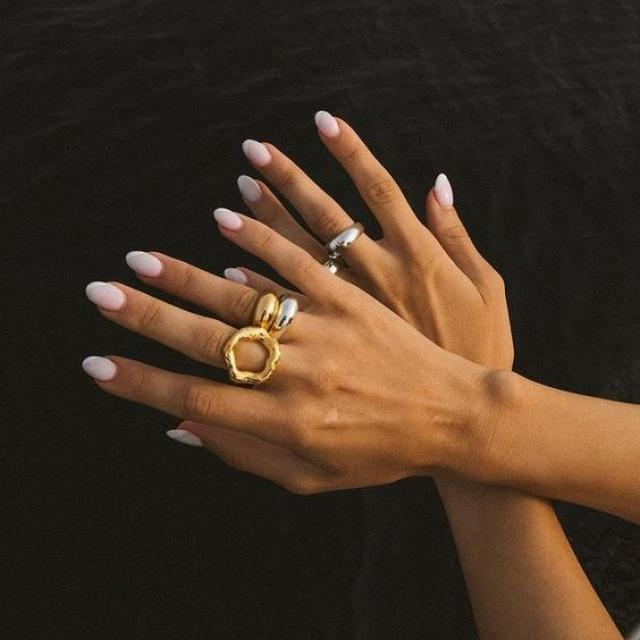Fingernail: (86, 282, 127, 311), (126, 251, 163, 278), (242, 140, 272, 167), (84, 356, 116, 381), (315, 111, 341, 139), (166, 429, 202, 447), (215, 208, 243, 230), (435, 173, 453, 207), (238, 176, 261, 201), (224, 269, 247, 285)
